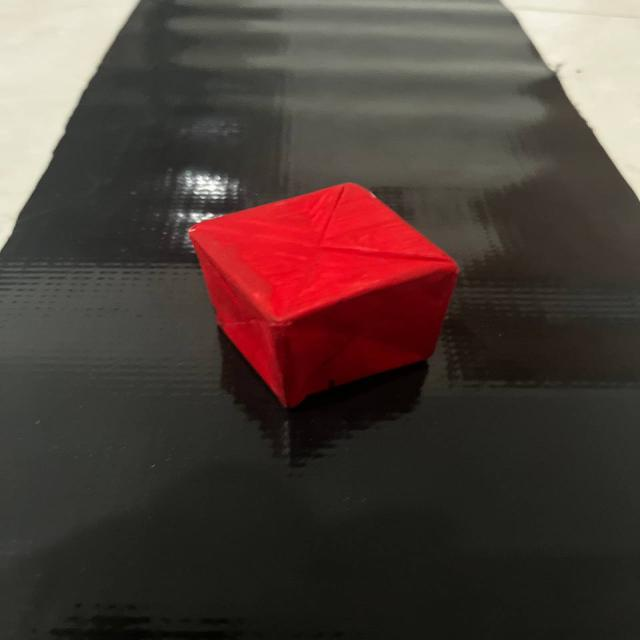Rojo: (168, 168, 472, 420)
